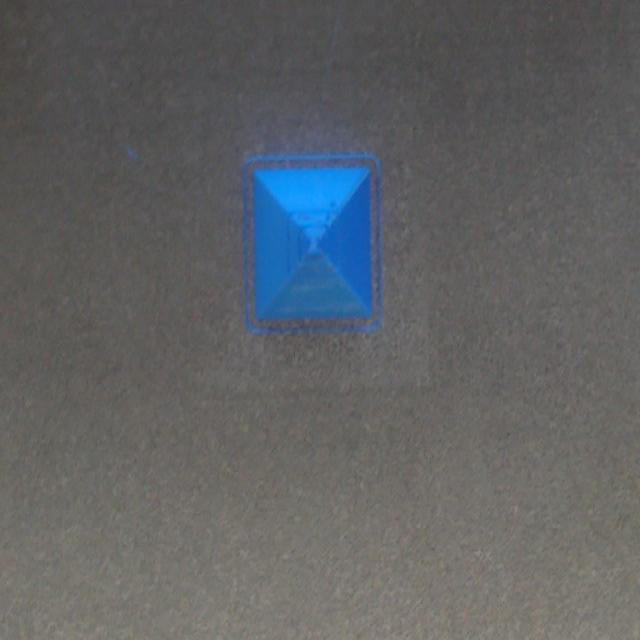mistake: (292, 200, 341, 256)
